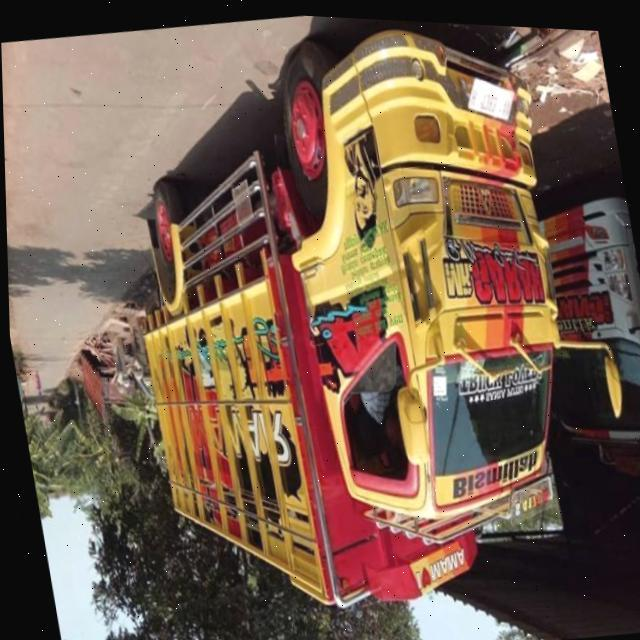truck: (91, 4, 640, 640)
